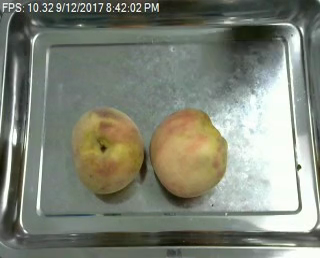Peach: (149, 108, 228, 197), (70, 105, 143, 191)
